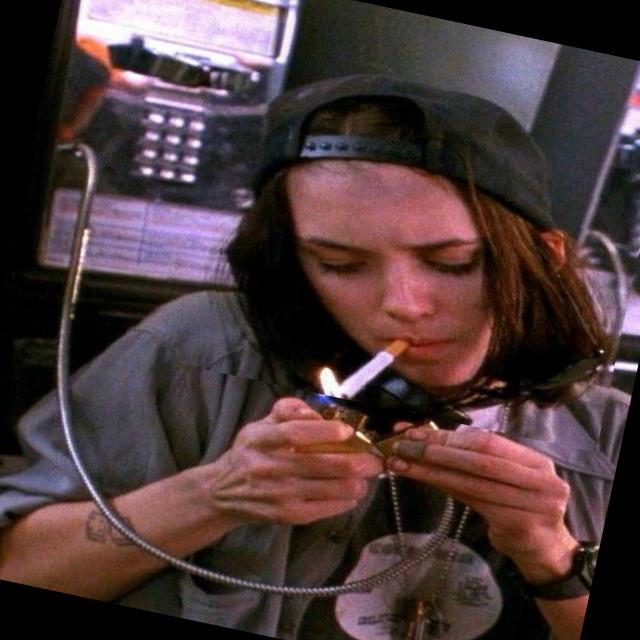cigarette: (319, 320, 407, 420)
